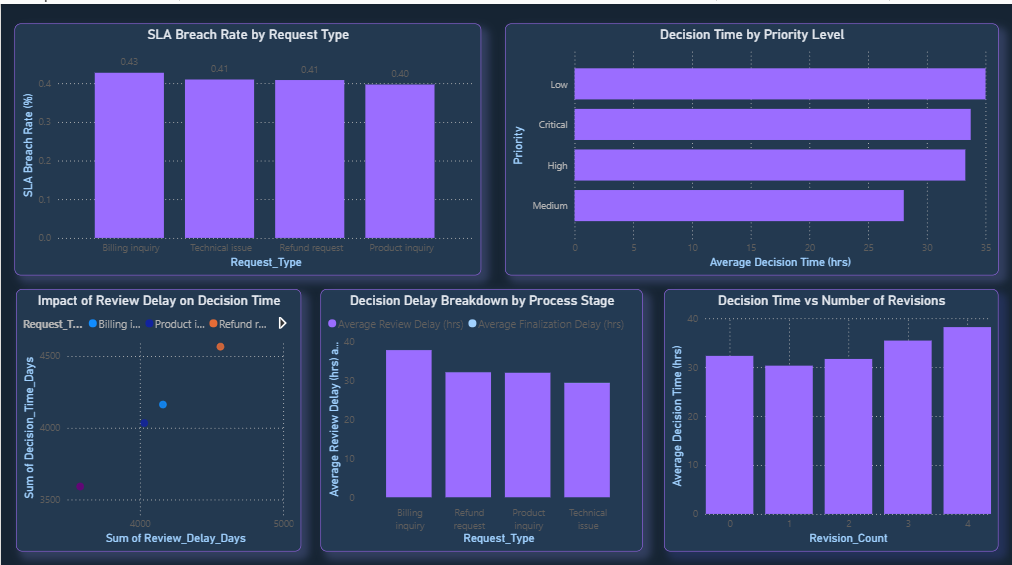

The dashboard page shown, as its layout file describes it:
{"tool":"powerbi","page":{"name":"Process Delay & Risk Drivers","canvas":[1280,720],"ordinal":1},"visuals":[{"type":"scatterChart","title":"Impact of Review Delay on Decision Time","fields":{"X":["Sum(Sheet1.Review_Delay_Days)"],"Y":["Sum(Sheet1.Decision_Time_Days)"],"Series":["Sheet1.Request_Type"]},"box":[18.9,359.1,359.1,330.7],"z":0},{"type":"columnChart","title":"Decision Delay Breakdown by Process Stage","fields":{"Category":["Sheet1.Request_Type"],"Y":["Sheet1.Avg Review Delay","Sheet1.Avg Finalization Delay"]},"box":[402.5,359.1,406.3,330.7],"z":1000},{"type":"clusteredBarChart","title":"Decision Time by Priority Level","fields":{"Category":["Sheet1.Priority"],"Y":["Sheet1.Avg Decision Time"]},"box":[635,24.6,621.7,317.5],"z":2000},{"type":"clusteredColumnChart","title":"Decision Time vs Number of Revisions","fields":{"Category":["Sheet1.Revision_Count"],"Y":["Sheet1.Avg Decision Time"]},"box":[835.3,359.1,421.4,330.7],"z":3000},{"type":"clusteredColumnChart","title":"SLA Breach Rate by Request Type","fields":{"Category":["Sheet1.Request_Type"],"Y":["Sheet1.SLA Breach %"]},"box":[17,24.6,587.7,317.5],"z":4000}]}

Visuals, with their boxes in screenshot pixels (x1, y1, x2, y2), scaled from the page's 1280x720 canvas onto the 1012x565 screenshot:
"Impact of Review Delay on Decision Time" scatterChart: bbox=[15, 282, 299, 541]
"Decision Delay Breakdown by Process Stage" columnChart: bbox=[318, 282, 639, 541]
"Decision Time by Priority Level" clusteredBarChart: bbox=[502, 19, 994, 268]
"Decision Time vs Number of Revisions" clusteredColumnChart: bbox=[660, 282, 994, 541]
"SLA Breach Rate by Request Type" clusteredColumnChart: bbox=[13, 19, 478, 268]
